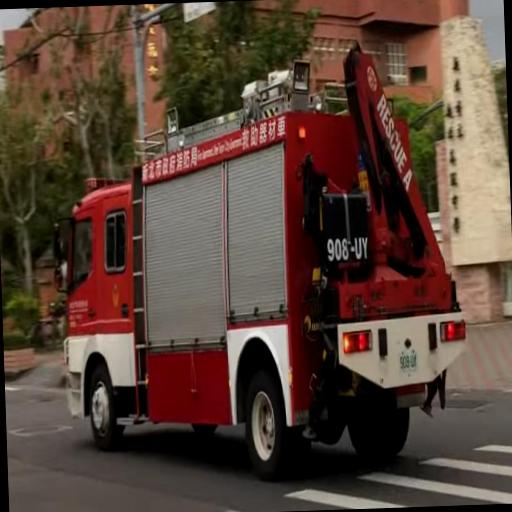fire truck: (53, 45, 466, 479)
